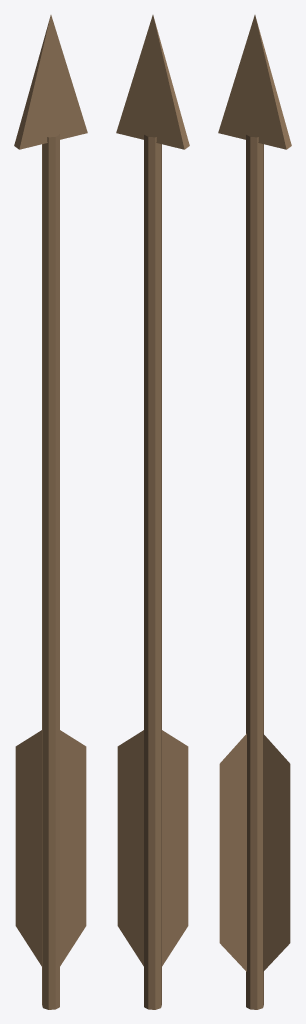
Rendered from Arrow_3D.fbx.
3 renders of one model, left to right at view 1: azimuth 30°, elevation 25°; view 2: azimuth 150°, elevation 25°; view 3: azimuth 330°, elevation 25°, orthographic.
Parts seen in each view (by area): view 1: Arrow_3D; view 2: Arrow_3D; view 3: Arrow_3D.
Boxes of the visible parts, bbox=[...] form: Arrow_3D: bbox=[14, 15, 87, 1009]; Arrow_3D: bbox=[116, 15, 189, 1009]; Arrow_3D: bbox=[218, 15, 291, 1009].
Bounding box in the file's own units: 6.1 × 83 × 5.37.
